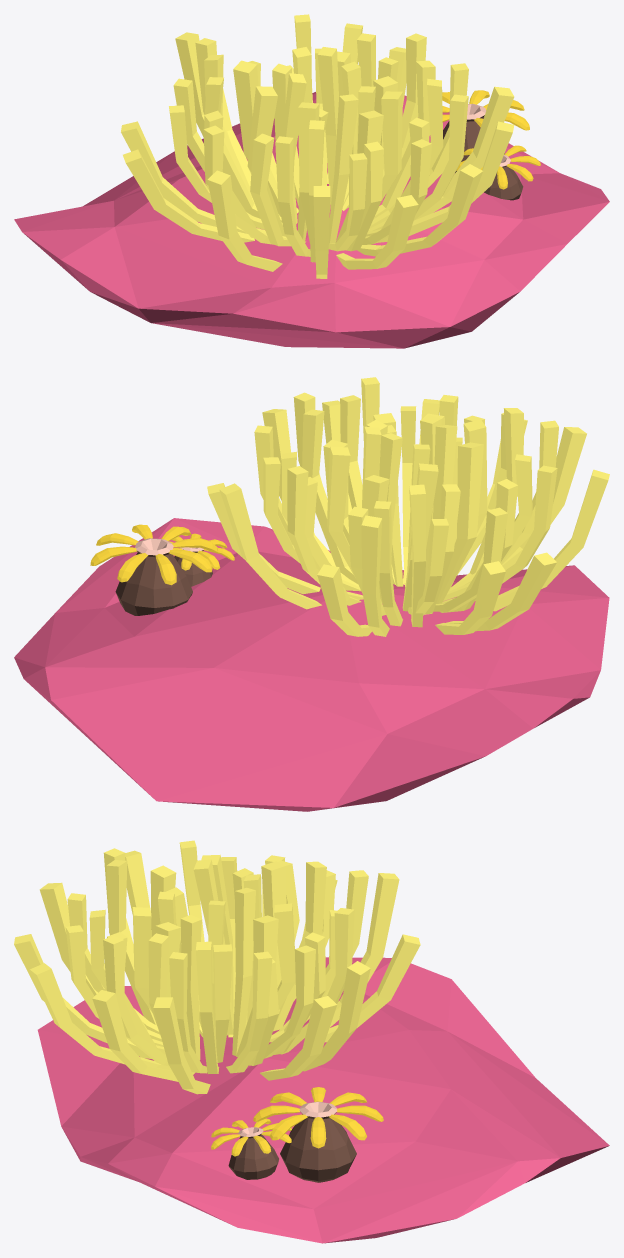
The model's file is MiniCoral-5.glb.
The picture shows the model from 3 angles, top to bottom: view 1: azimuth 30°, elevation 25°; view 2: azimuth 150°, elevation 25°; view 3: azimuth 270°, elevation 25°; orthographic projection. The views are drawn at different scales.
Parts seen in each view (by area): view 1: Coralls_012; view 2: Coralls_012; view 3: Coralls_012.
Boxes of the visible parts, x1,y1,x2,y2 form: Coralls_012: (14, 14, 609, 348); Coralls_012: (14, 377, 609, 811); Coralls_012: (14, 840, 609, 1243).
Size of the model in its own units: 2.12 by 1.19 by 2.15.
Materials: 2 (2 with a texture image).
